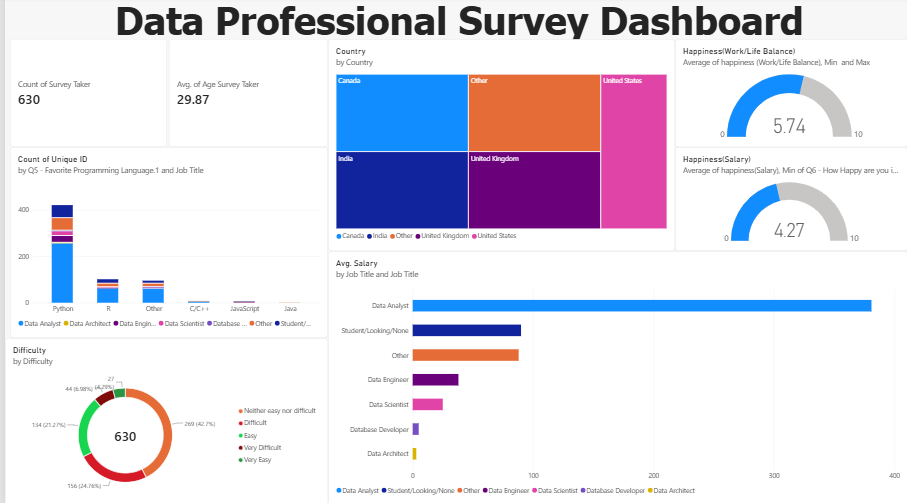

The dashboard page shown, as its layout file describes it:
{"tool":"powerbi","page":{"name":"Page 1","canvas":[1920,1080],"ordinal":0},"visuals":[{"type":"textbox","box":[10.8,0,1892.2,118.8],"z":0},{"type":"cardVisual","fields":{"Data":["Count(Data Professional Survey.Unique ID)"]},"box":[10.8,133.9,337,185.8],"z":1000},{"type":"cardVisual","fields":{"Data":["Avg(Data Professional Survey.Q10 - Current Age)"]},"box":[363.5,133.9,323.1,185],"z":2000},{"type":"barChart","fields":{"Category":["Data Professional Survey.Q1 - Which Title Best Fits your Current Role?.1"],"Series":["Data Professional Survey.Q1 - Which Title Best Fits your Current Role?.1"],"Y":["CountNonNull(Data Professional Survey.Average Salary)"]},"box":[702,557.3,1201,505.4],"z":3000},{"type":"columnChart","fields":{"Category":["Data Professional Survey.Q5 - Favorite Programming Language.1"],"Series":["Data Professional Survey.Q1 - Which Title Best Fits your Current Role?.1"],"Y":["CountNonNull(Data Professional Survey.Unique ID)"]},"box":[10.6,333.8,676.1,376.3],"z":4000},{"type":"treemap","fields":{"Group":["Data Professional Survey.Q11 - Which Country do you live in?.1"],"Values":["Count(Data Professional Survey.Q11 - Which Country do you live in?.1)"]},"box":[701.6,133.9,701.6,406.1],"z":5000},{"type":"gauge","title":"Happiness(Work/Life Balance)","fields":{"MaxValue":["Max(Data Professional Survey.Q6 - How Happy are you in your Current Position with the following? (Work/Life Balance))"],"MinValue":["Min(Data Professional Survey.Q6 - How Happy are you in your Current Position with the following? (Work/Life Balance))"],"Y":["Avg(Data Professional Survey.Q6 - How Happy are you in your Current Position with the following? (Work/Life Balance))"]},"box":[1423.4,133.9,479.5,185.8],"z":6000},{"type":"gauge","title":"Happiness(Salary)","fields":{"MaxValue":["Max(Data Professional Survey.Q6 - How Happy are you in your Current Position with the following? (Salary))"],"MinValue":["Min(Data Professional Survey.Q6 - How Happy are you in your Current Position with the following? (Salary))"],"Y":["Avg(Data Professional Survey.Q6 - How Happy are you in your Current Position with the following? (Salary))"]},"box":[1423.4,334.8,479.5,205.2],"z":6001},{"type":"donutChart","fields":{"Category":["Data Professional Survey.Q7 - How difficult was it for you to break into Data?"],"Y":["CountNonNull(Data Professional Survey.Q7 - How difficult was it for you to break into Data?)"]},"box":[10.6,725,676.1,338],"z":6002}]}

Visuals, with their boxes in screenshot pixels (x1, y1, x2, y2), scaled from the page's 1920x1080 canvas onto the 907x503 screenshot:
textbox: [5,0,899,55]
cardVisual - Count(Data Professional Survey.Unique ID): [5,62,164,149]
cardVisual - Avg(Data Professional Survey.Q10 - Current Age): [172,62,324,149]
barChart - Data Professional Survey.Q1 - Which Title Best Fits your Current Role?.1 x Data Professional Survey.Q1 - Which Title Best Fits your Current Role?.1: [332,260,899,495]
columnChart - Data Professional Survey.Q5 - Favorite Programming Language.1 x Data Professional Survey.Q1 - Which Title Best Fits your Current Role?.1: [5,155,324,331]
treemap - Data Professional Survey.Q11 - Which Country do you live in?.1 x Count(Data Professional Survey.Q11 - Which Country do you live in?.1): [331,62,663,252]
"Happiness(Work/Life Balance)" gauge: [672,62,899,149]
"Happiness(Salary)" gauge: [672,156,899,252]
donutChart - Data Professional Survey.Q7 - How difficult was it for you to break into Data? x CountNonNull(Data Professional Survey.Q7 - How difficult was it for you to break into Data?): [5,338,324,495]
